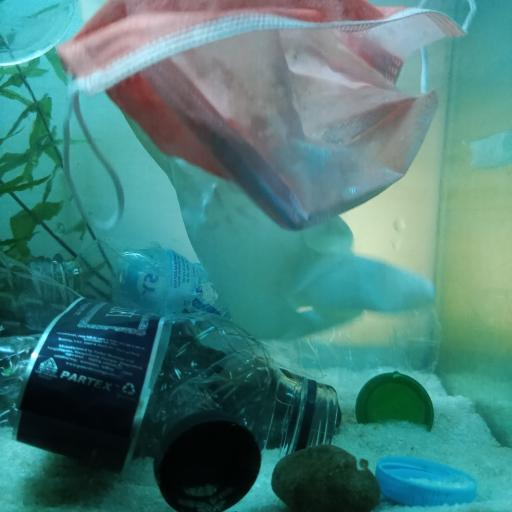bottle_cap: (155, 408, 262, 512), (354, 370, 435, 434), (372, 456, 474, 502)
glove: (123, 89, 438, 338)
mask: (59, 1, 478, 232)
plastic_bottle: (0, 254, 338, 480), (33, 234, 442, 384)
plastic_cup: (0, 0, 77, 70)
